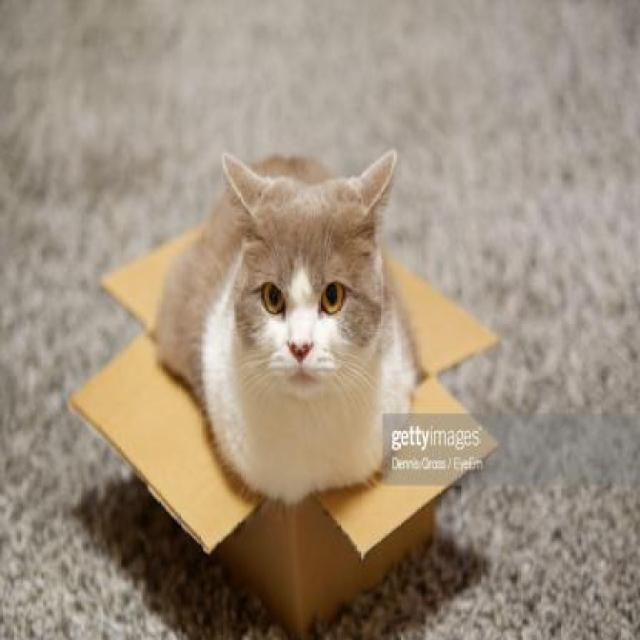box: (75, 236, 504, 640)
